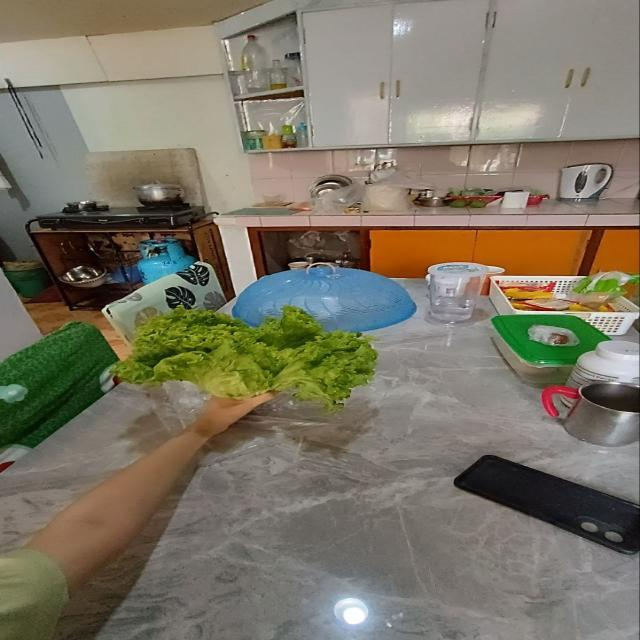Lettuce-Ready-to-Harvest: (106, 303, 381, 413)
